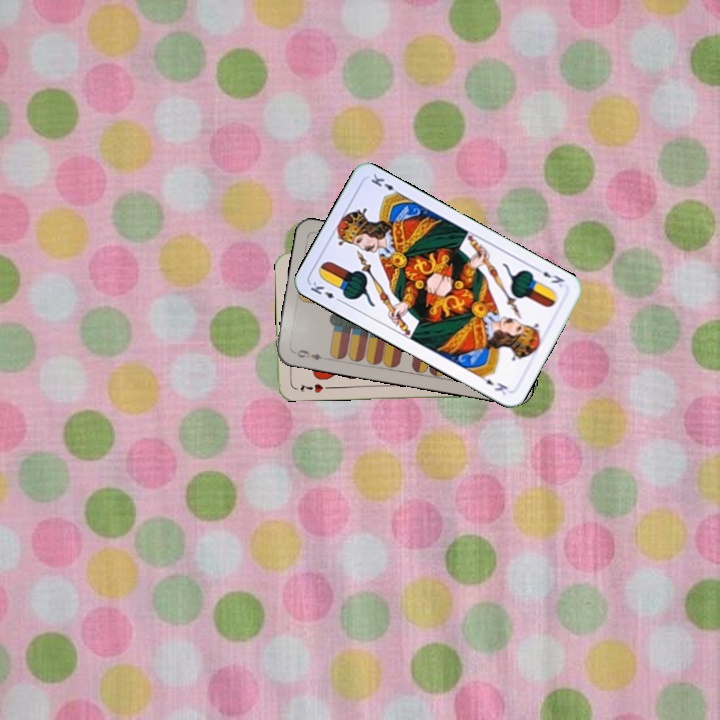E9: (290, 346, 326, 363)
EK: (306, 277, 345, 305), (531, 263, 567, 290)
H7: (296, 379, 326, 395)
